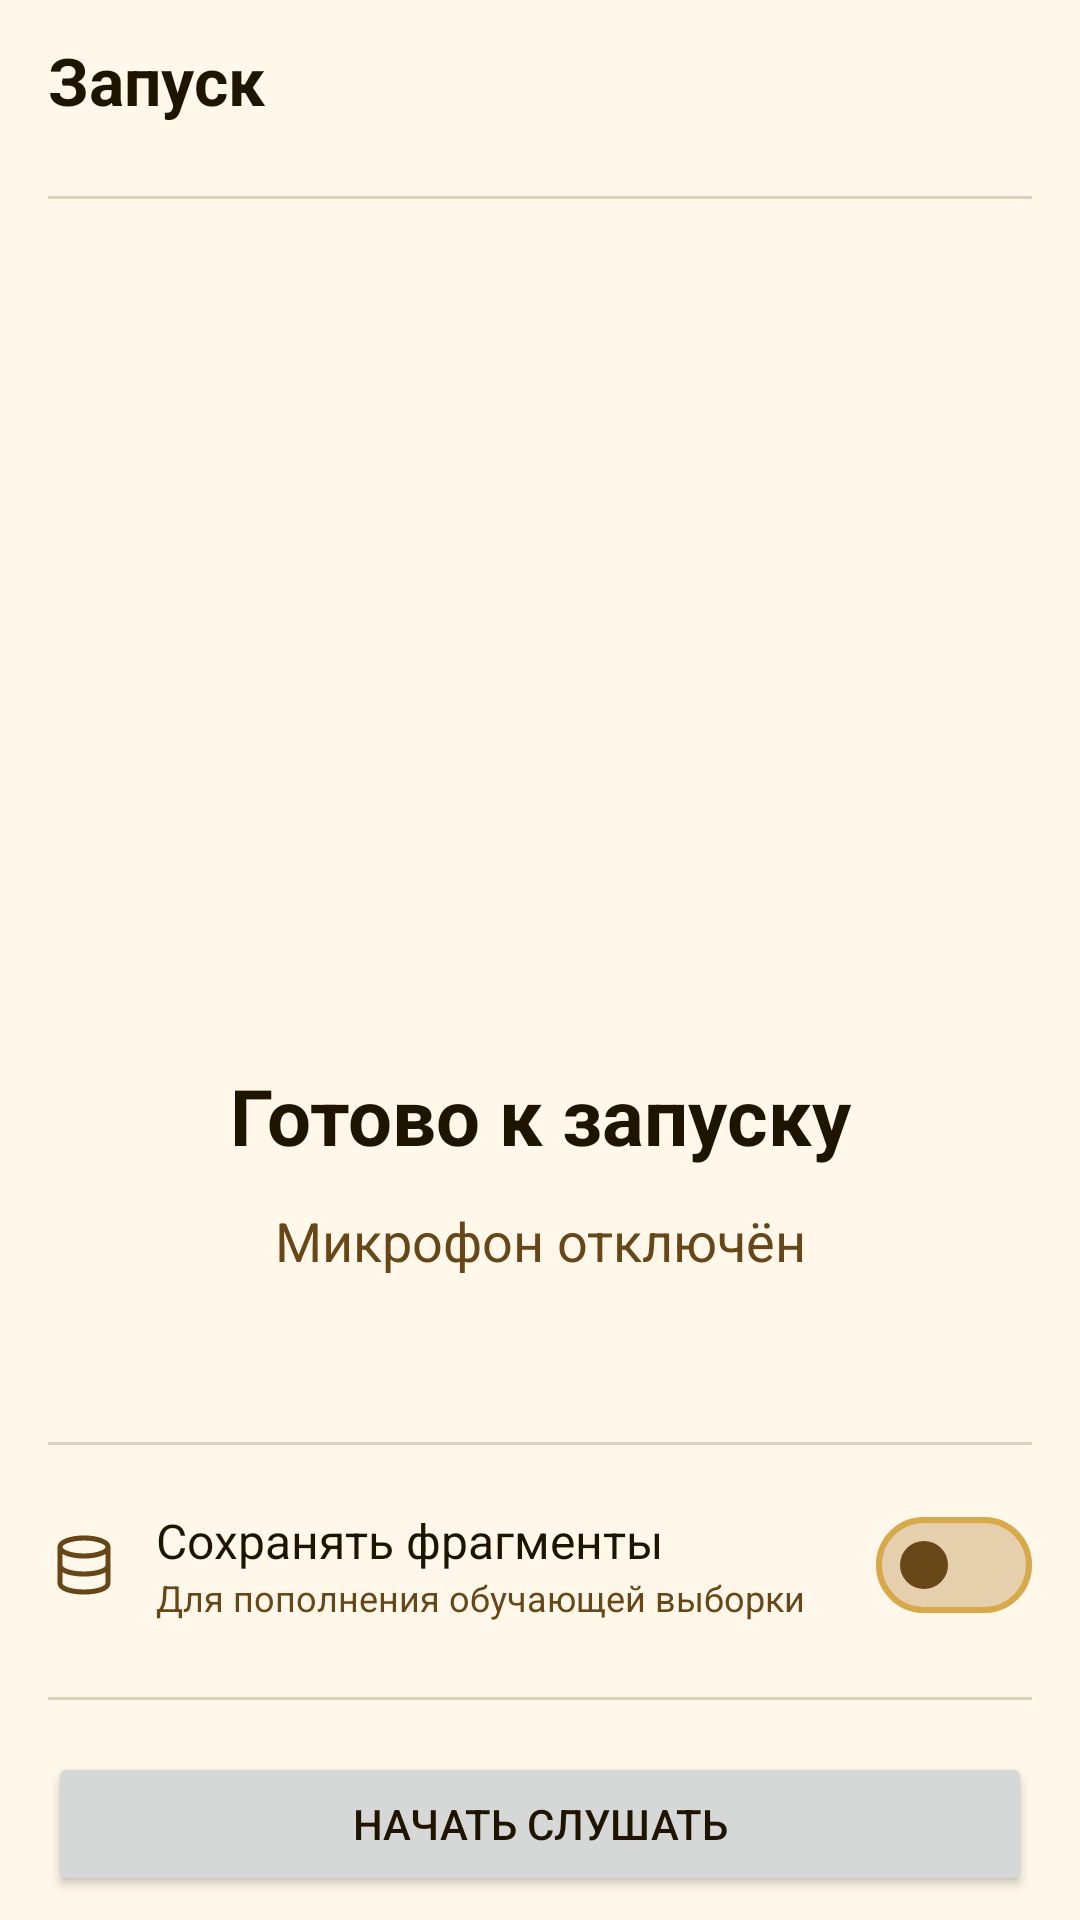

Icons on this 1080x1920 Android screen, each with its box as [x1=x1, y1=y1, x2=x2, y2=y2]:
database: [x1=57, y1=1535, x2=111, y2=1595]
